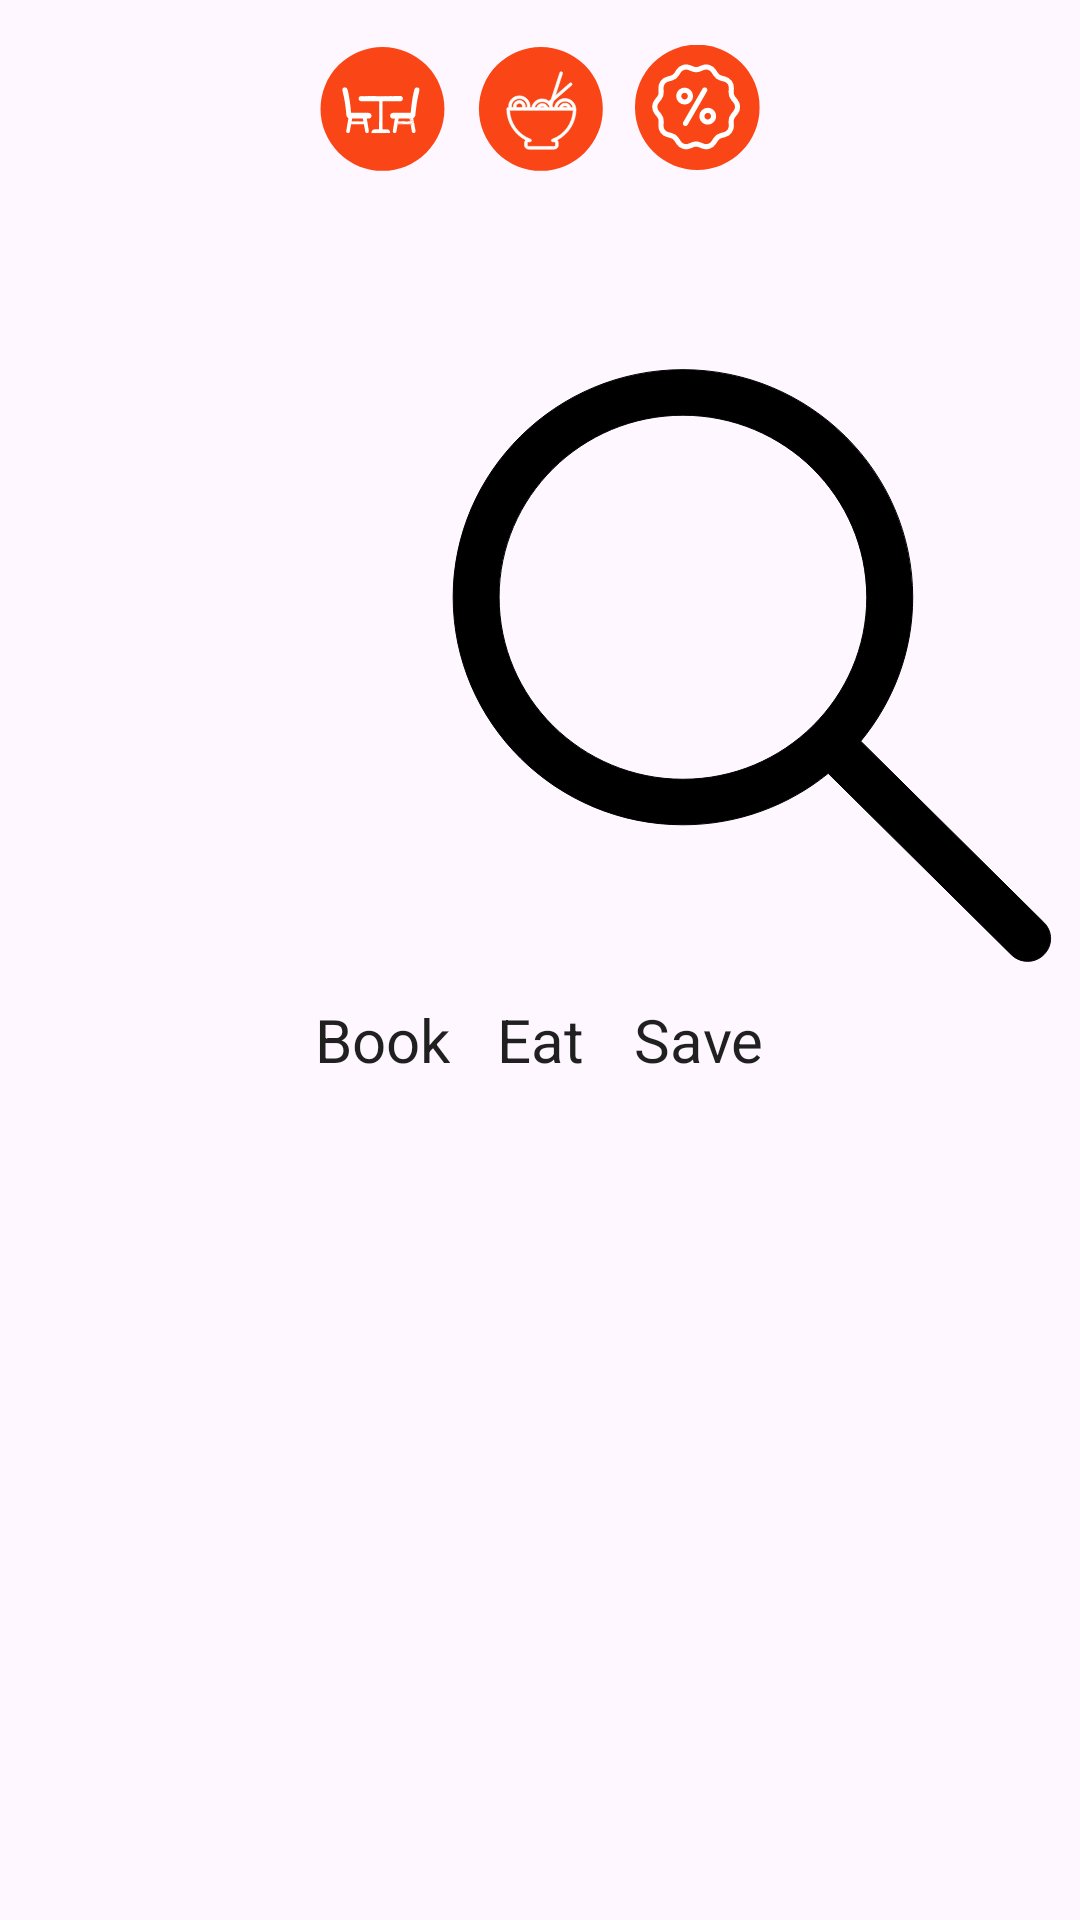

Screen size 1080px×1920px. Icon name, then its box in pixels as BBox(x1, y1, x2, y2):
launch deal: BBox(635, 45, 760, 170)
launch food: BBox(479, 47, 603, 171)
launch table: BBox(320, 47, 445, 171)
